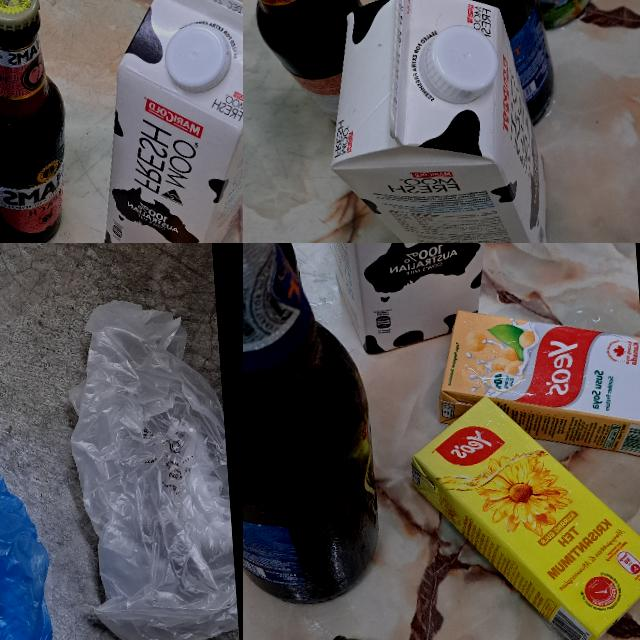caixinha: (404, 382, 640, 640), (328, 0, 548, 243), (85, 0, 243, 243), (432, 299, 640, 477), (329, 243, 496, 358)
garrafa de vidro: (243, 243, 381, 612), (359, 0, 553, 135), (0, 0, 71, 243), (243, 0, 362, 102)
sacola plástica: (57, 291, 239, 640)
tampa plástica: (412, 20, 504, 105), (162, 21, 233, 92)
